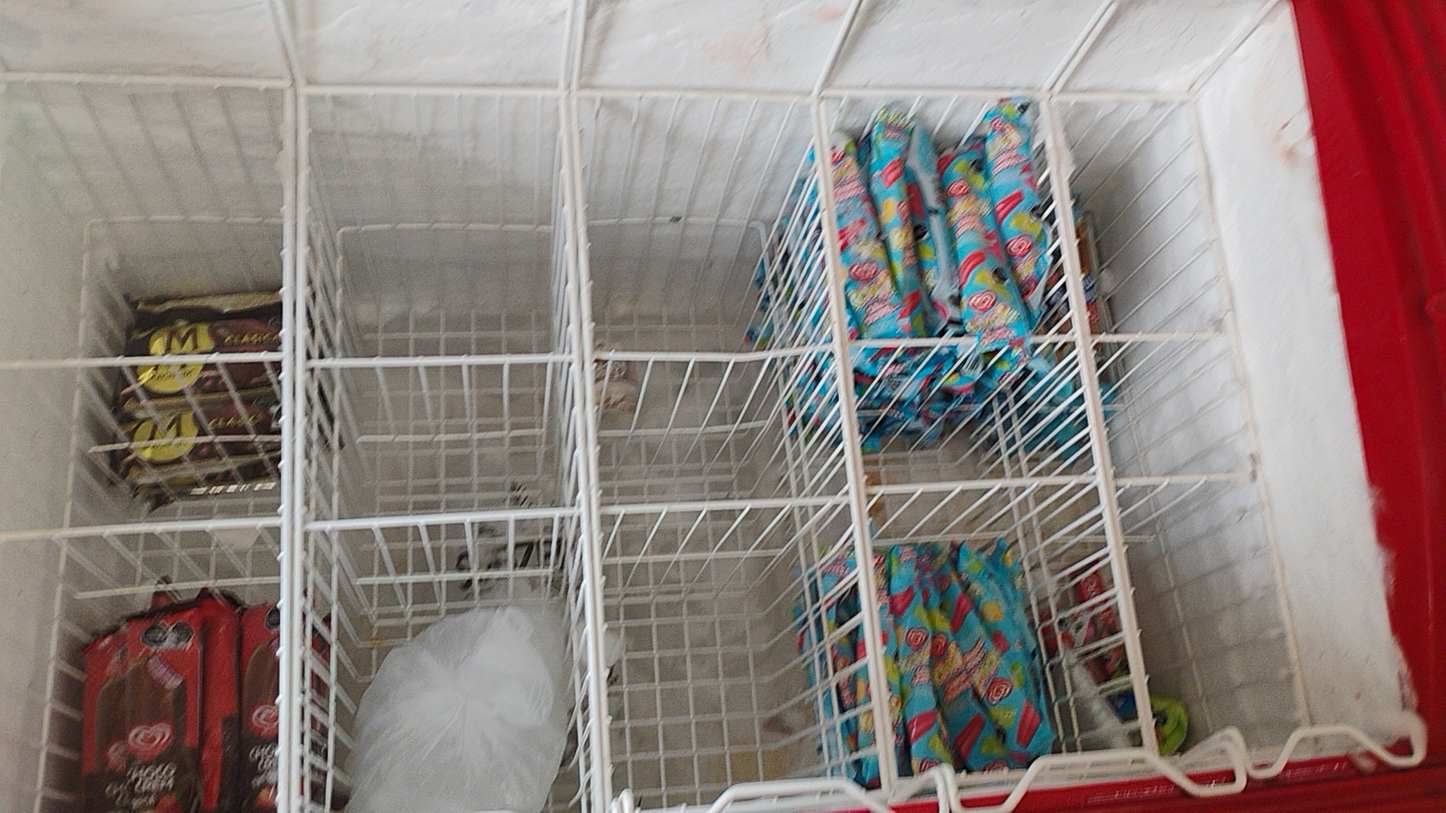rejilla: (1040, 102, 1157, 752), (1190, 99, 1309, 725), (811, 106, 890, 797), (819, 100, 897, 788), (572, 353, 604, 812), (584, 354, 613, 811), (278, 87, 294, 813), (291, 95, 307, 813), (304, 508, 578, 530), (1052, 103, 1082, 290), (560, 97, 581, 354), (572, 97, 592, 354), (1, 520, 279, 538), (601, 496, 851, 513), (4, 73, 289, 87), (4, 354, 280, 368), (869, 478, 1098, 492), (307, 355, 571, 366), (573, 92, 815, 102), (299, 87, 564, 95), (1114, 473, 1252, 485), (733, 344, 834, 359), (824, 91, 1049, 97), (595, 353, 731, 360), (853, 338, 972, 345), (1091, 334, 1234, 339), (1057, 95, 1190, 98), (1032, 336, 1077, 342)
